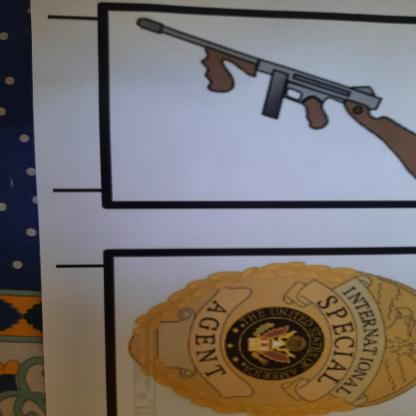Bootlegger: (114, 11, 416, 205)
G-man: (118, 255, 416, 416)
